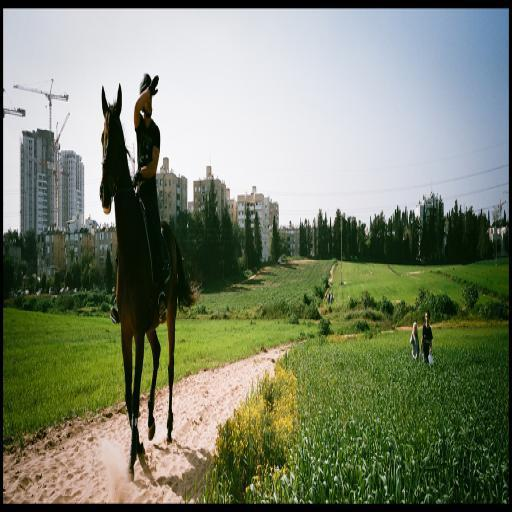horse: (98, 81, 203, 477)
